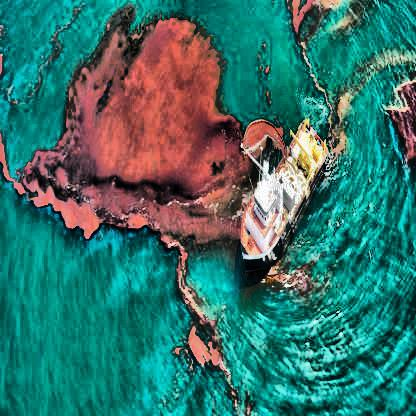truecolor: (12, 7, 273, 275), (177, 249, 239, 414), (387, 80, 416, 164)
